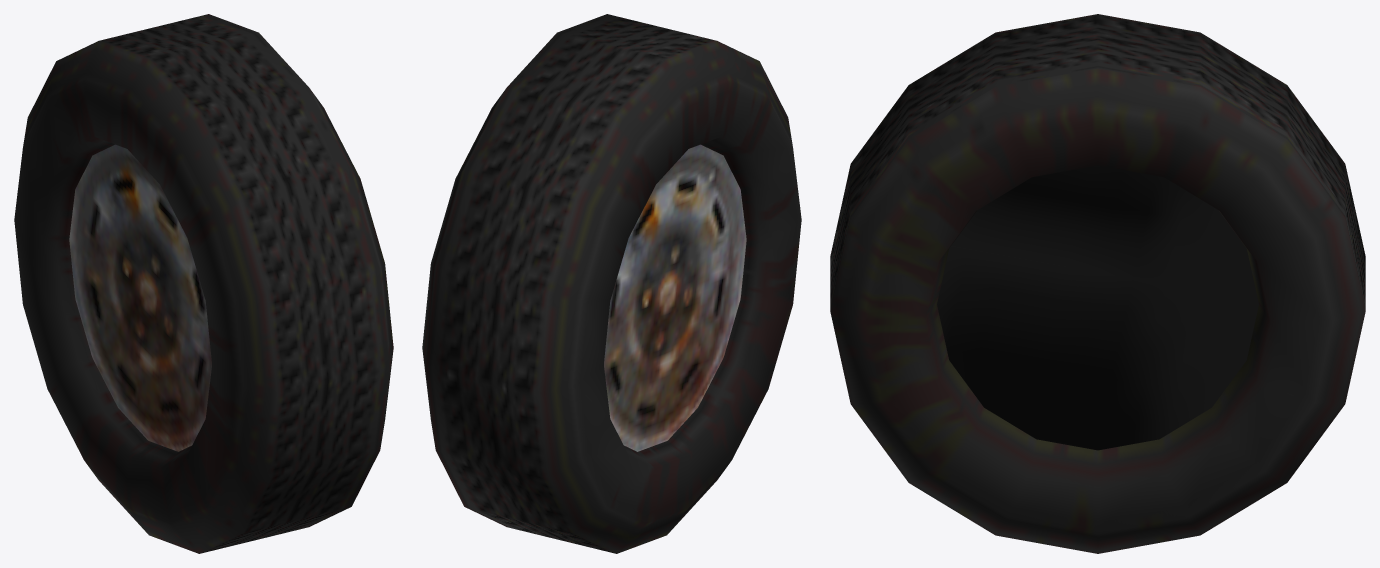
The model's file is WheelSmallThin.FBX.
The picture shows the model from 3 angles, left to right: view 1: azimuth 30°, elevation 25°; view 2: azimuth 150°, elevation 25°; view 3: azimuth 270°, elevation 25°; orthographic projection.
Parts seen in each view (by area): view 1: Wheel_SmallThin; view 2: Wheel_SmallThin; view 3: Wheel_SmallThin.
Boxes of the visible parts, box(x1,y1,x2,y2) form: Wheel_SmallThin: box(14, 14, 393, 553); Wheel_SmallThin: box(422, 14, 801, 553); Wheel_SmallThin: box(830, 14, 1365, 553).
Bounding box in the file's own units: 0.8962 × 2.66 × 2.66.
Materials: 1 (1 with a texture image).
